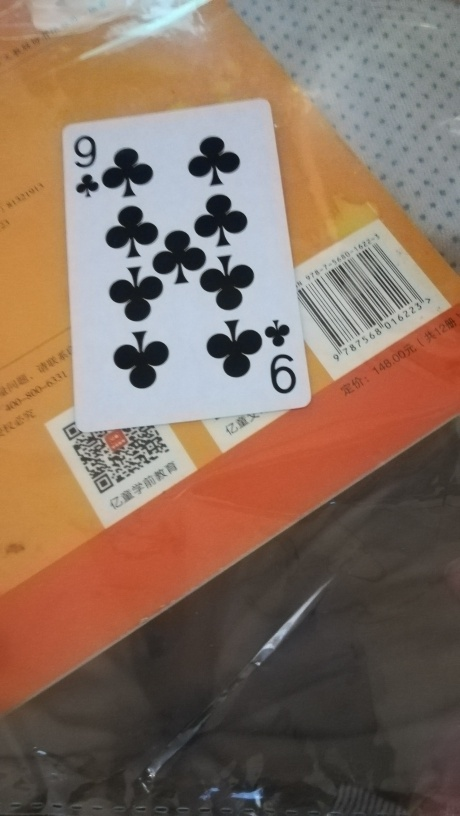mh 9: (59, 97, 314, 436)
